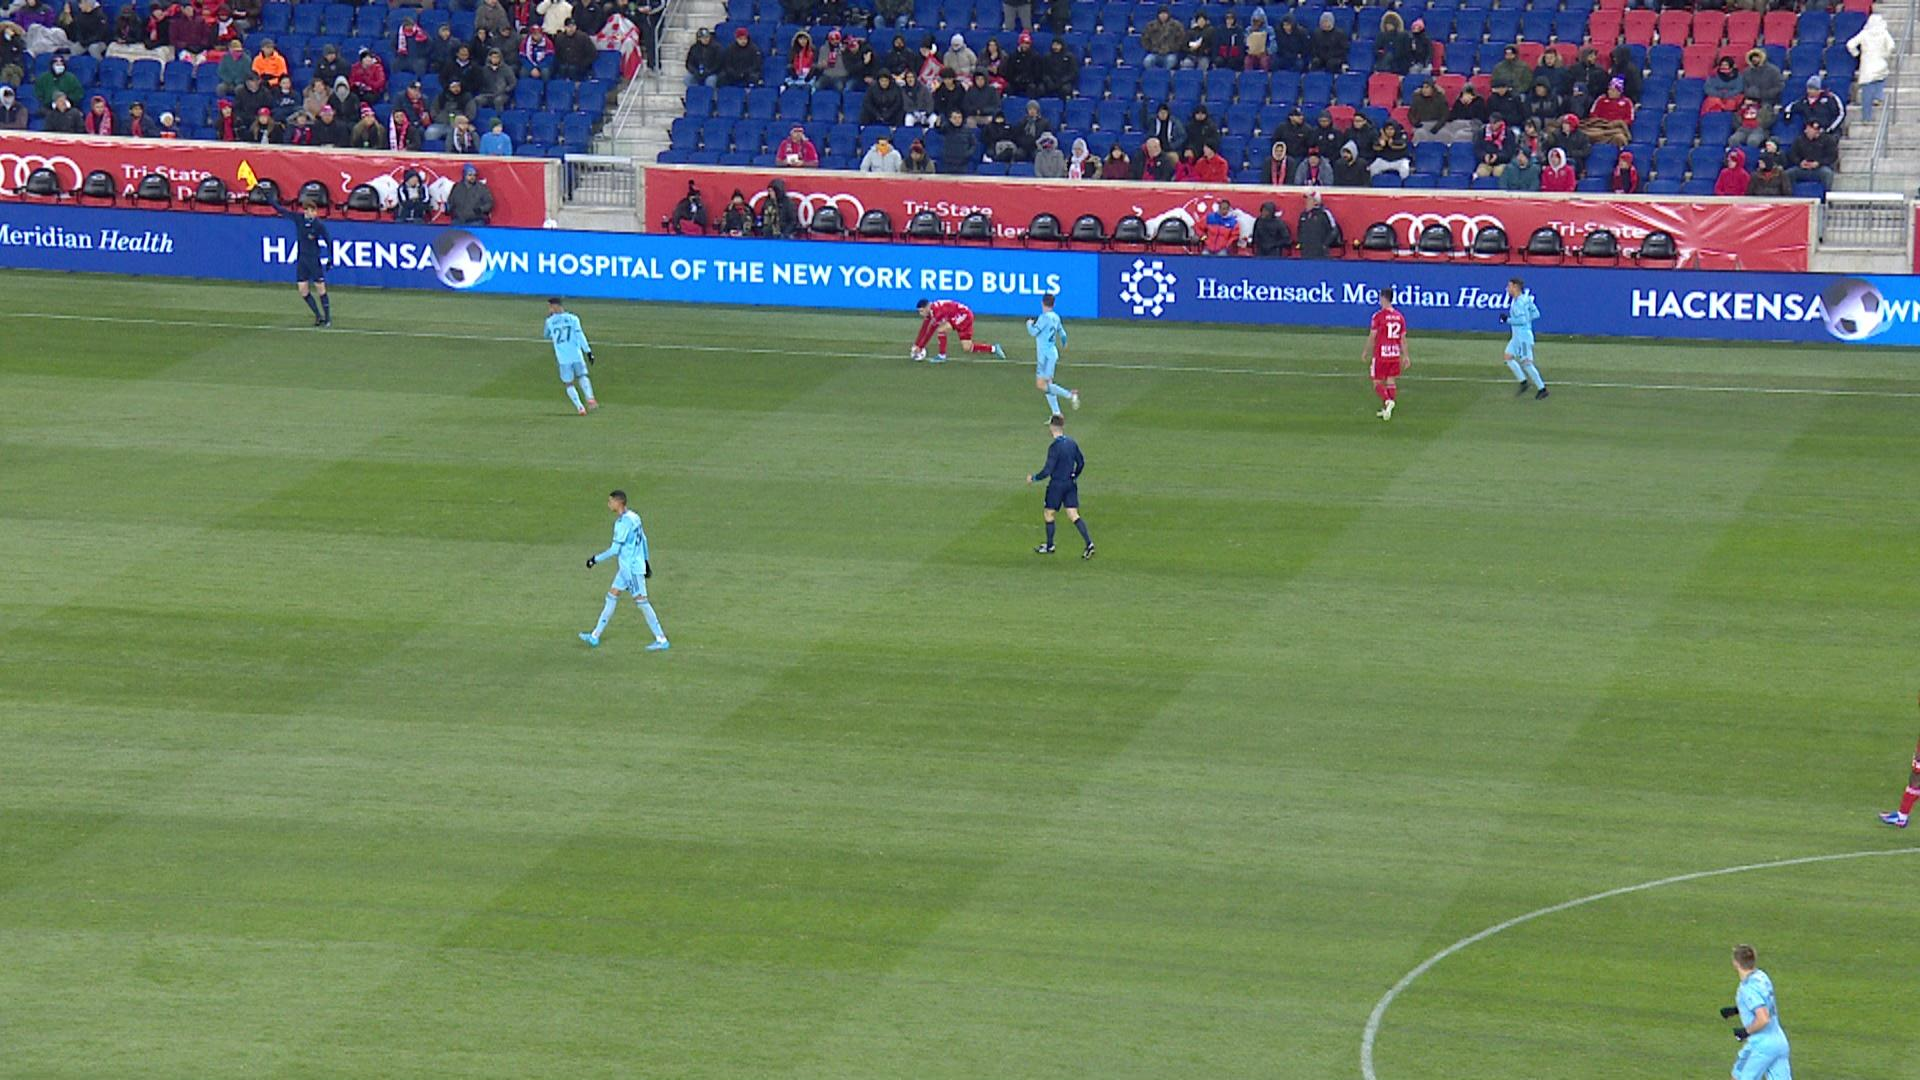football: (911, 347, 927, 360)
